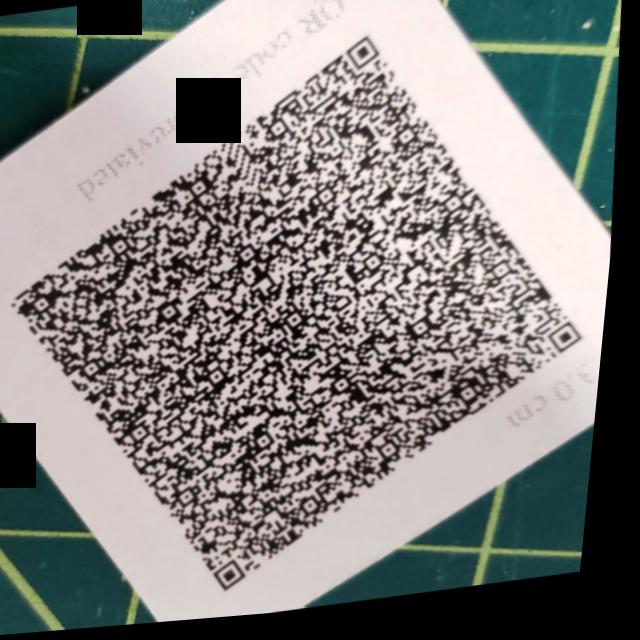QR_CODE: (0, 2, 637, 635)
